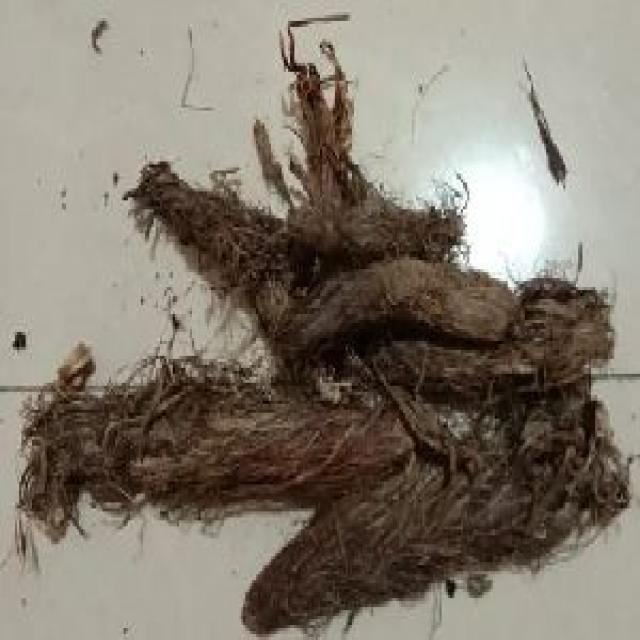Yam: (64, 87, 538, 614)
